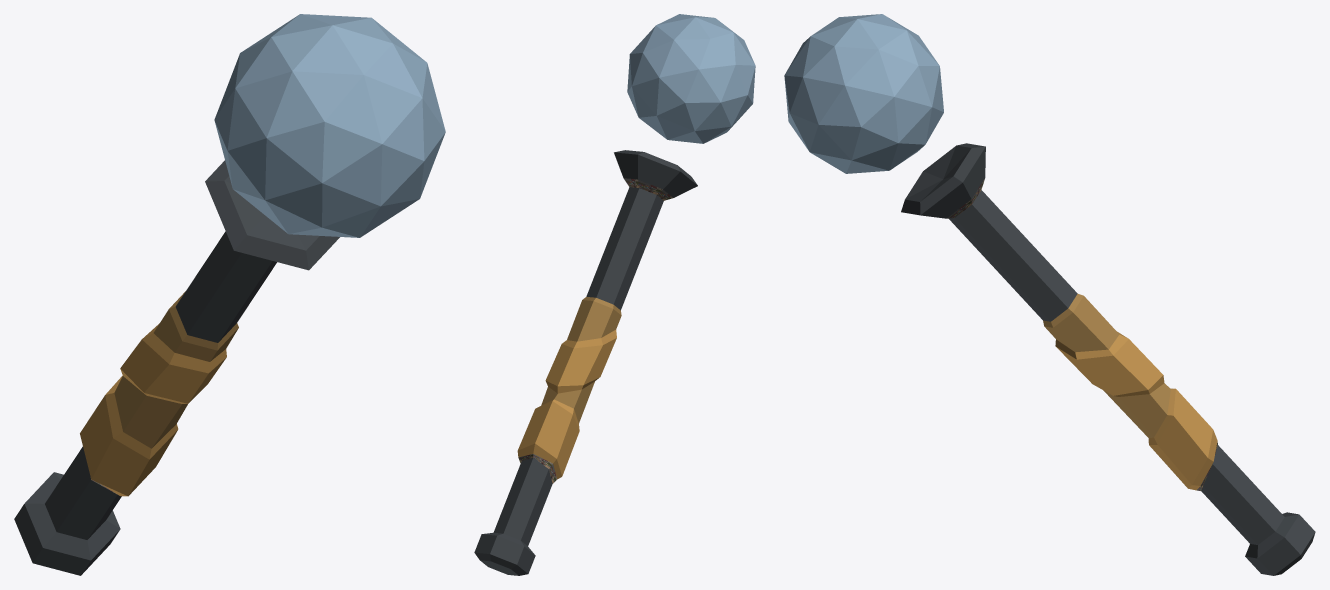
File: fk-sceptre-12.glb
3 views of the same model, side by side, from view 1: azimuth 30°, elevation 25°; view 2: azimuth 150°, elevation 25°; view 3: azimuth 270°, elevation 25° (orthographic). The views are drawn at different scales.
Parts seen in each view (by area): view 1: fk-sceptre-12; view 2: fk-sceptre-12; view 3: fk-sceptre-12.
Boxes of the visible parts, x1,y1,x2,y2 form: fk-sceptre-12: [14, 14, 445, 575]; fk-sceptre-12: [474, 14, 755, 575]; fk-sceptre-12: [784, 14, 1315, 575].
Bounding box in the file's own units: 0.1376 × 0.5027 × 0.4454.
1 material, 1 textured.
